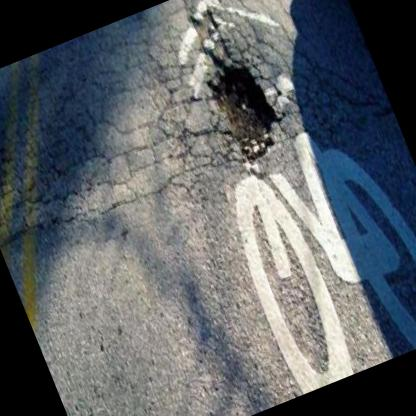pothole: (192, 43, 295, 178)
